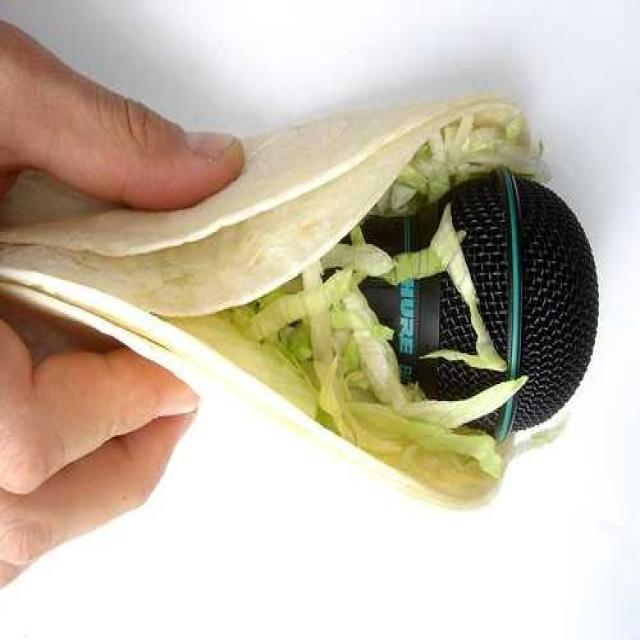microphone: (340, 165, 600, 447)
